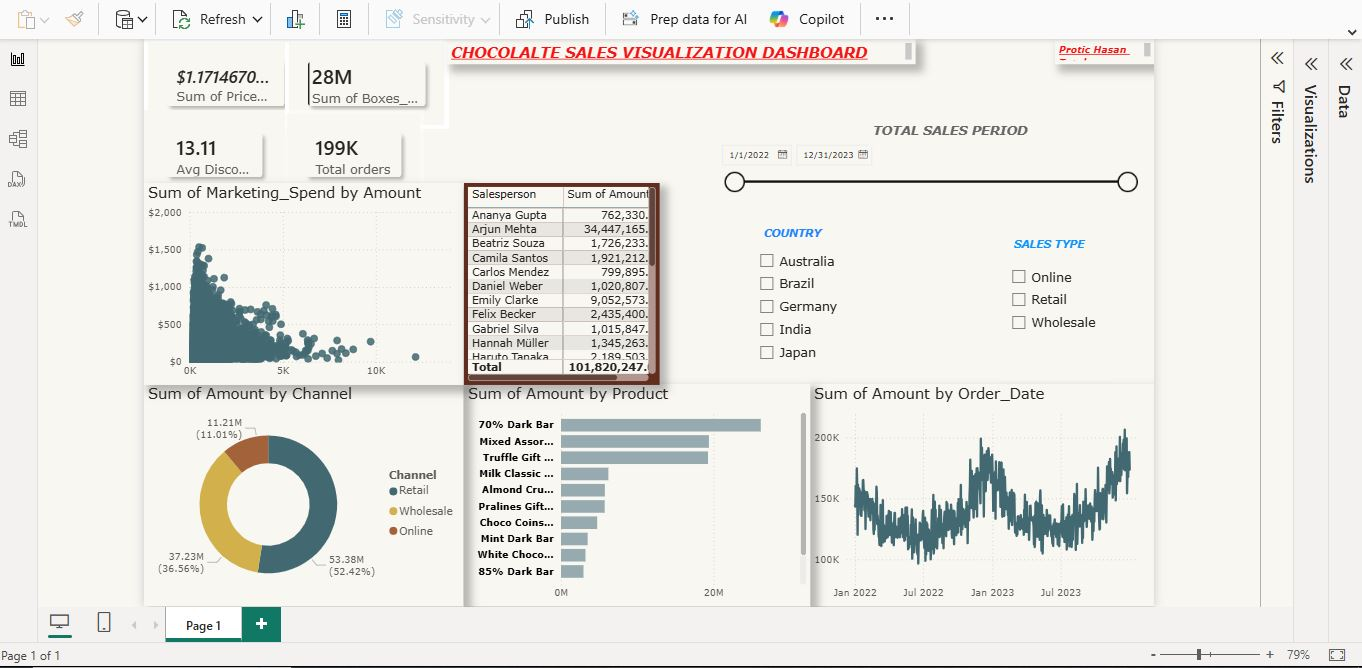

What the dashboard file says about the page in this screenshot:
{"tool":"powerbi","page":{"name":"Page 1","canvas":[1280,720],"ordinal":0},"visuals":[{"type":"cardVisual","fields":{"Data":["Sum(Chocolate_Sales.Price_per_Box)"]},"box":[0,0,207.5,114.4],"z":0},{"type":"cardVisual","fields":{"Data":["Sum(Chocolate_Sales.Boxes_Shipped)"]},"box":[179.3,0,207.5,114.4],"z":1000},{"type":"cardVisual","fields":{"Data":["Chocolate_Sales.Total orders"]},"box":[176.5,90.4,179.3,114.4],"z":2000},{"type":"cardVisual","fields":{"Data":["Chocolate_Sales.Avg Discount"]},"box":[0,90.4,179.3,114.4],"z":3000},{"type":"lineChart","fields":{"Category":["Chocolate_Sales.Order_Date"],"Y":["Sum(Chocolate_Sales.Amount)"]},"box":[844.2,437.6,436.2,282.4],"z":4000},{"type":"clusteredBarChart","fields":{"Category":["Chocolate_Sales.Product"],"Y":["Sum(Chocolate_Sales.Amount)"]},"box":[405.2,437.6,439.1,282.4],"z":5000},{"type":"donutChart","fields":{"Category":["Chocolate_Sales.Channel"],"Y":["Sum(Chocolate_Sales.Amount)"]},"box":[0,437.6,405.2,282.4],"z":6000},{"type":"scatterChart","fields":{"Y":["Sum(Chocolate_Sales.Marketing_Spend)"],"X":["Chocolate_Sales.Amount"]},"box":[0,182.1,405.2,255.5],"z":7000},{"type":"pivotTable","fields":{"Rows":["Chocolate_Sales.Salesperson"],"Values":["Sum(Chocolate_Sales.Amount)"]},"box":[405.2,182.1,248.5,255.5],"z":8000},{"type":"textbox","box":[384,0,594.4,32.5],"z":9000},{"type":"slicer","fields":{"Values":["Chocolate_Sales.Country"]},"box":[768,261.2,151.1,156.7],"z":10000},{"type":"slicer","fields":{"Values":["Chocolate_Sales.Channel"]},"box":[1087.1,280.9,135.5,151.1],"z":11000},{"type":"slicer","fields":{"Values":["Chocolate_Sales.Order_Date"]},"box":[720,124.2,547.8,80.5],"z":12000},{"type":"textbox","box":[780.7,232.9,87.5,28.2],"z":13000},{"type":"textbox","box":[1098.4,247.1,120,33.9],"z":14000},{"type":"textbox","box":[919.1,100.2,218.8,36.7],"z":15000},{"type":"textbox","box":[1154.8,0,125.6,32.5],"z":16000}]}

Visuals, with their boxes on the page's 1280x720 design canvas (x1, y1, x2, y2). These are canvas units, not pixel positions in the 1362x668 screenshot, which may show the page scaled, cropped or inside an application window:
cardVisual - Sum(Chocolate_Sales.Price_per_Box): x1=0, y1=0, x2=208, y2=114
cardVisual - Sum(Chocolate_Sales.Boxes_Shipped): x1=179, y1=0, x2=387, y2=114
cardVisual - Chocolate_Sales.Total orders: x1=176, y1=90, x2=356, y2=205
cardVisual - Chocolate_Sales.Avg Discount: x1=0, y1=90, x2=179, y2=205
lineChart - Chocolate_Sales.Order_Date x Sum(Chocolate_Sales.Amount): x1=844, y1=438, x2=1280, y2=720
clusteredBarChart - Chocolate_Sales.Product x Sum(Chocolate_Sales.Amount): x1=405, y1=438, x2=844, y2=720
donutChart - Chocolate_Sales.Channel x Sum(Chocolate_Sales.Amount): x1=0, y1=438, x2=405, y2=720
scatterChart - Sum(Chocolate_Sales.Marketing_Spend) x Chocolate_Sales.Amount: x1=0, y1=182, x2=405, y2=438
pivotTable - Chocolate_Sales.Salesperson x Sum(Chocolate_Sales.Amount): x1=405, y1=182, x2=654, y2=438
textbox: x1=384, y1=0, x2=978, y2=32
slicer - Chocolate_Sales.Country: x1=768, y1=261, x2=919, y2=418
slicer - Chocolate_Sales.Channel: x1=1087, y1=281, x2=1223, y2=432
slicer - Chocolate_Sales.Order_Date: x1=720, y1=124, x2=1268, y2=205
textbox: x1=781, y1=233, x2=868, y2=261
textbox: x1=1098, y1=247, x2=1218, y2=281
textbox: x1=919, y1=100, x2=1138, y2=137
textbox: x1=1155, y1=0, x2=1280, y2=32
